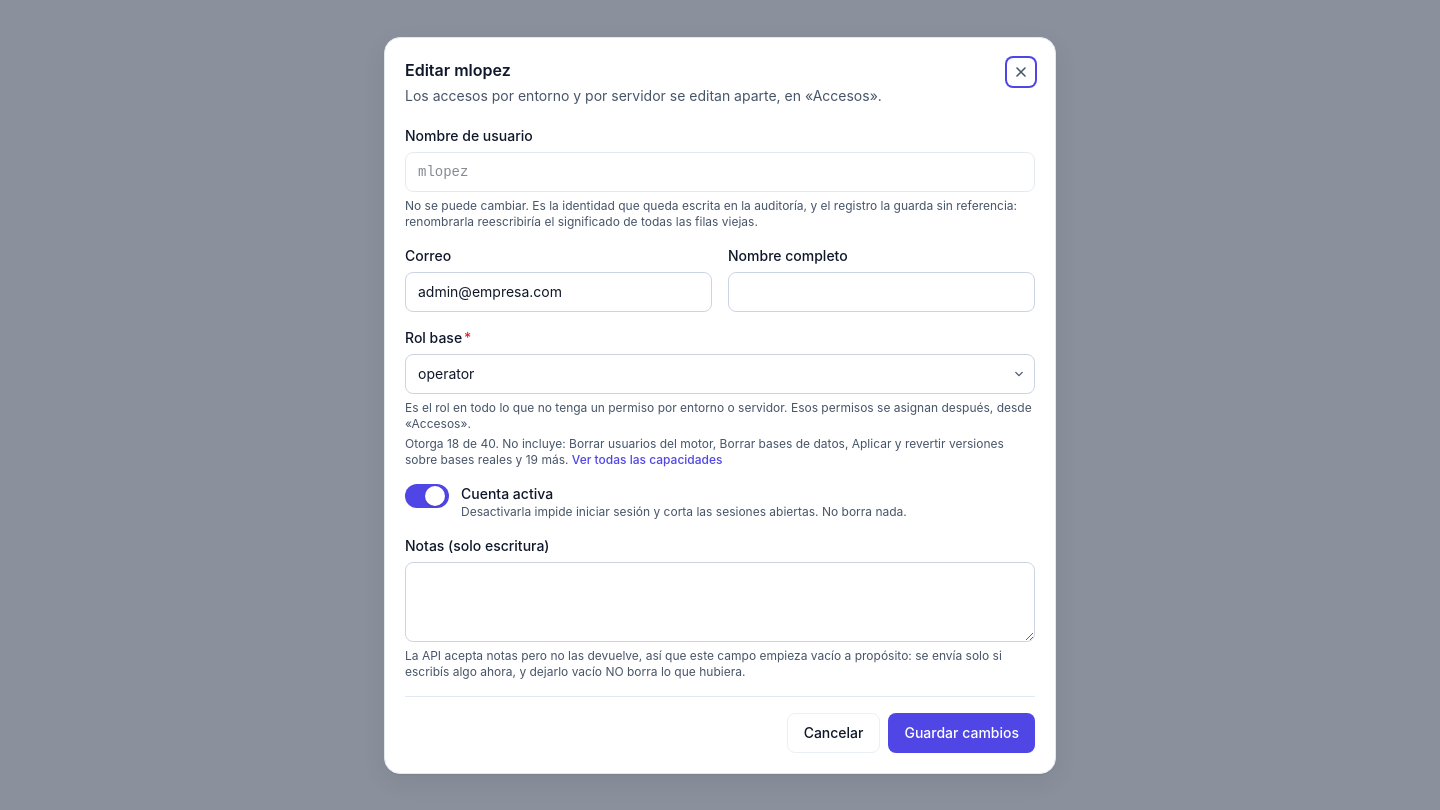
Test case: GatewayUserFormModal — rol base › en la edición, owner solo se marca si la cuenta no lo es ya
Step 1. Click the button named "Abrir lista" → [1019, 374], box [1007,362,1031,386]
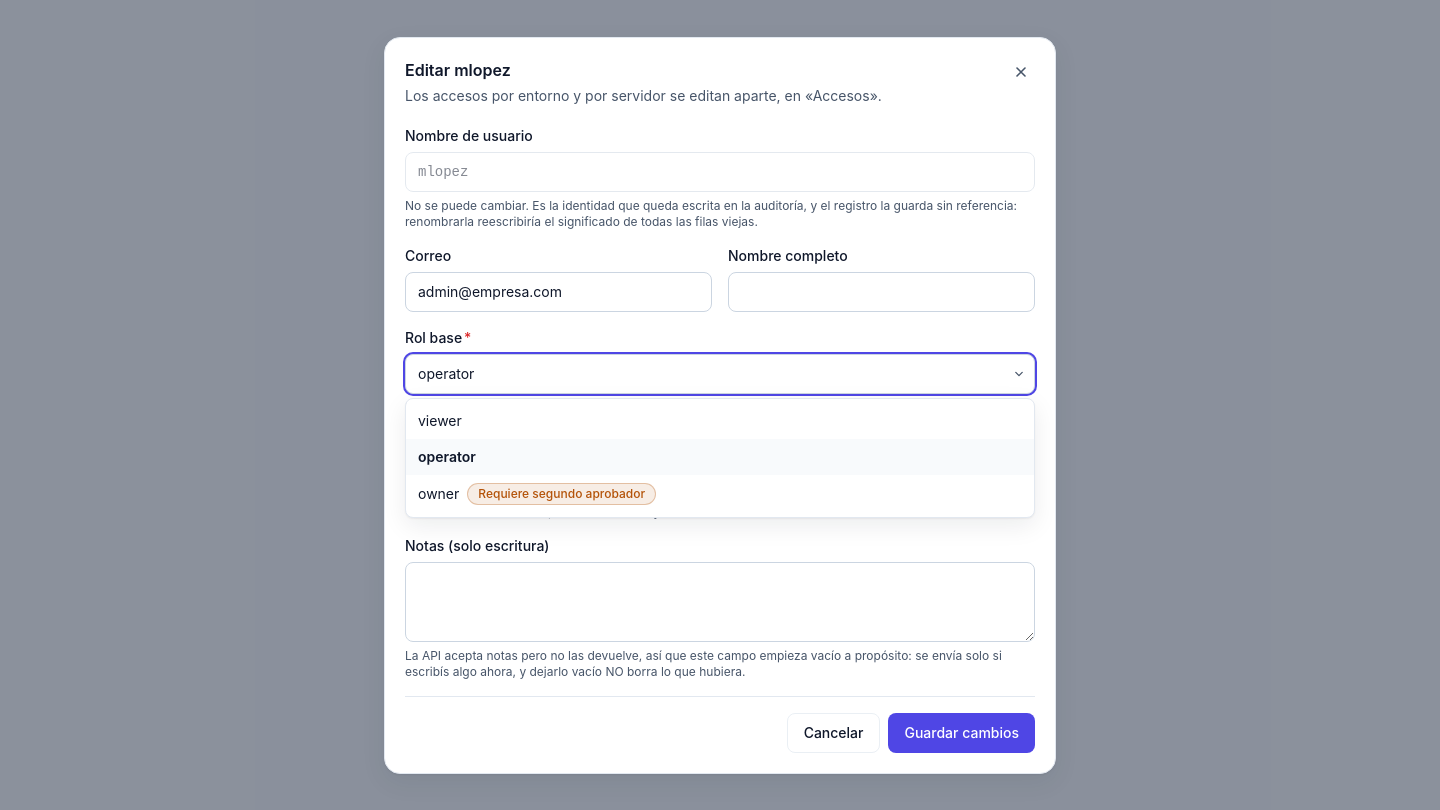
Step 2. Click the option "owner Requiere segundo aprobador" → [537, 494], box [418,482,656,504]
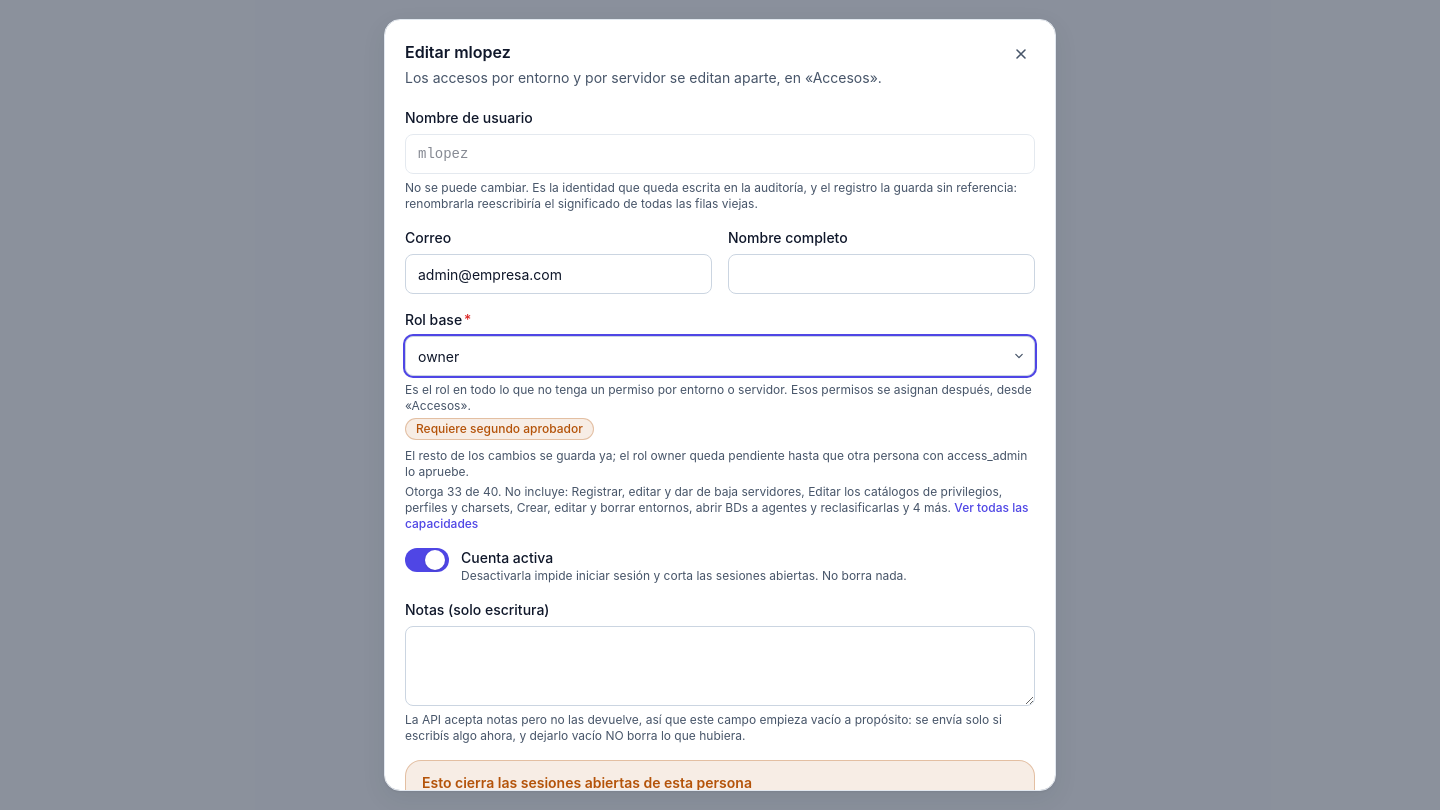
Expected: the text "el rol owner queda pendiente" is shown, [405,448,1027,479]
